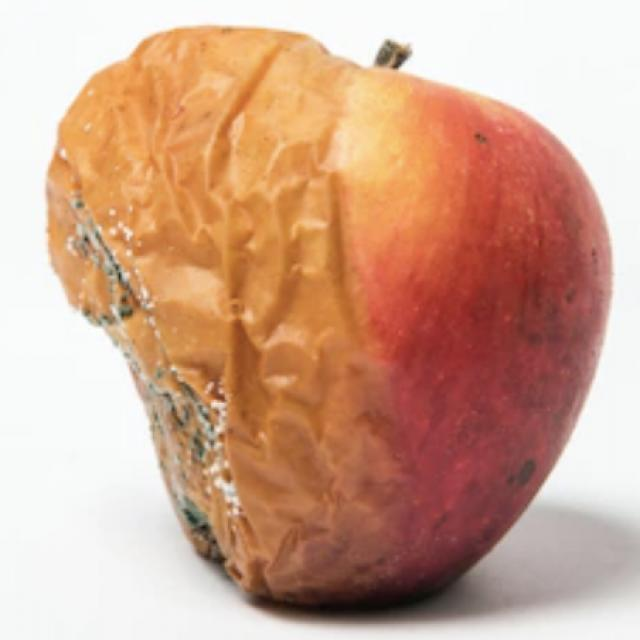Rotten: (48, 17, 627, 608)
